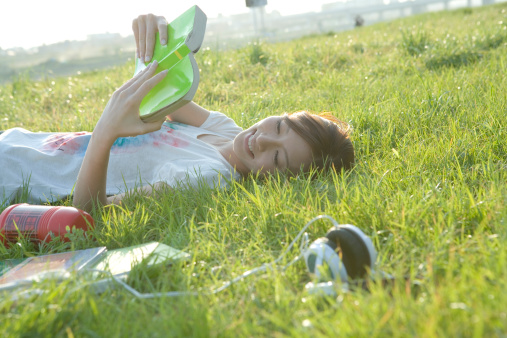deitado: (0, 28, 294, 222)
